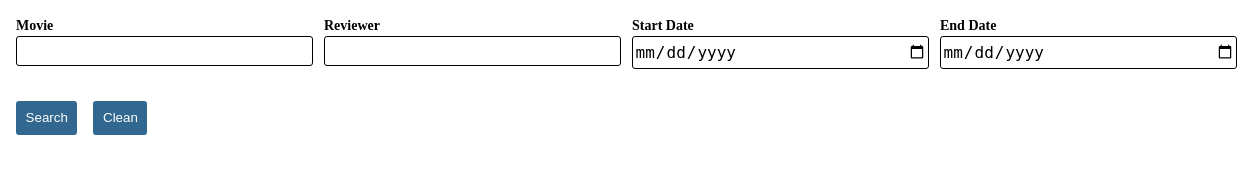
<MovieForm /> › form validation
Type "2022-12-22" into the element with test id "startDate" at (778, 43), box 632,16 -> 924,69
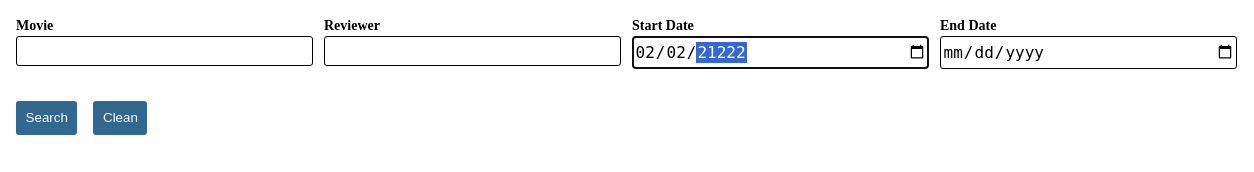
Type "2021-12-31" into the element with test id "endDate" at (1086, 43), box 940,16 -> 1232,69
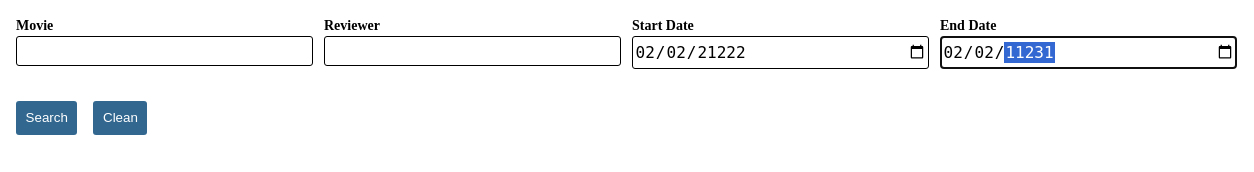
Click the button with test id "search" at (47, 118), box 16,101 -> 77,135
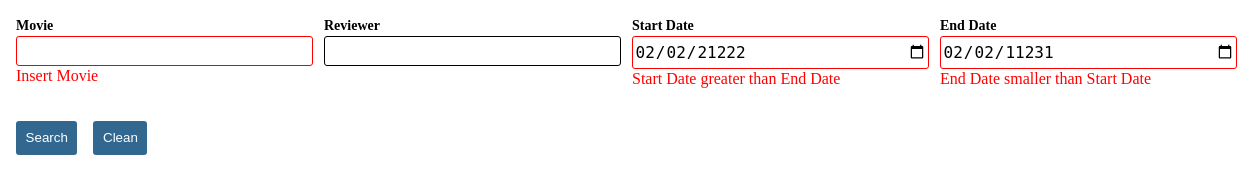
Expected: the text "Insert Movie" is shown, 16,67 -> 98,84
Expected: the text "Start Date greater than End Date" is shown, 632,70 -> 840,87
Expected: the text "End Date smaller than Start Date" is shown, 940,70 -> 1151,87
